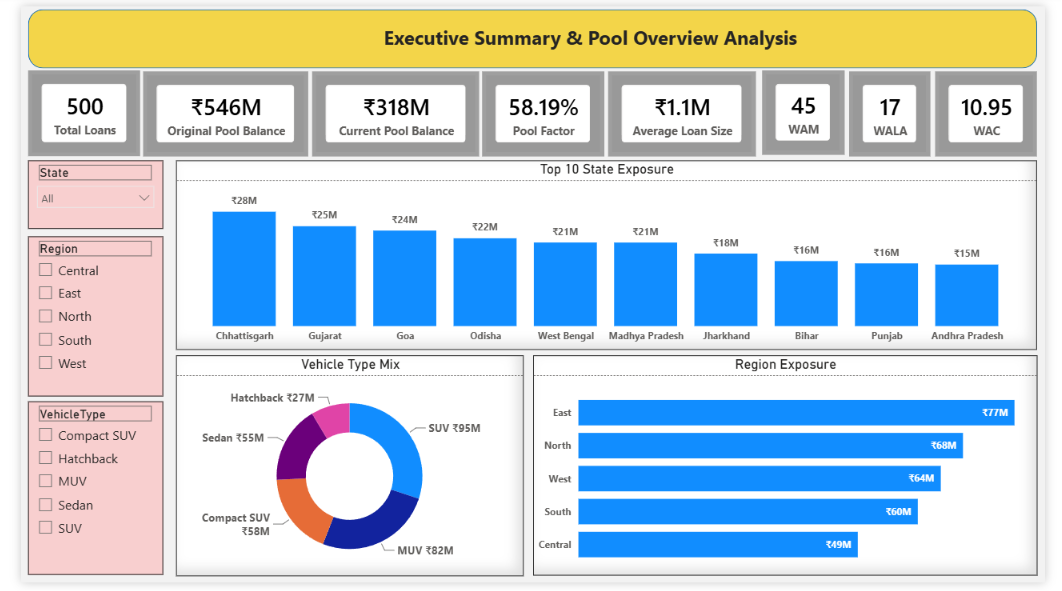

This screenshot's page, from the dashboard's own definition file:
{"tool":"powerbi","page":{"name":"Executive Summary & Pool Overview","canvas":[1280,720],"ordinal":0},"visuals":[{"type":"cardVisual","fields":{"Data":["auto_loan_securitisation_data.Total Loans"]},"box":[8.6,80,140,107.1],"z":0},{"type":"cardVisual","fields":{"Data":["auto_loan_securitisation_data.Current Pool Balance"]},"box":[363.2,80.7,209.1,106.4],"z":1000},{"type":"cardVisual","fields":{"Data":["auto_loan_securitisation_data.Original Pool Balance"]},"box":[152.9,80.7,206.7,106.4],"z":2000},{"type":"cardVisual","fields":{"Data":["auto_loan_securitisation_data.Pool Factor"]},"box":[576,80.7,152.9,106.4],"z":3000},{"type":"cardVisual","fields":{"Data":["auto_loan_securitisation_data.Average Loan Size"]},"box":[733.7,80.7,184.6,106.4],"z":4000},{"type":"cardVisual","fields":{"Data":["auto_loan_securitisation_data.WAC"]},"box":[1142.1,80.7,127.2,106.4],"z":5000},{"type":"cardVisual","fields":{"Data":["auto_loan_securitisation_data.WAM"]},"box":[925.7,80,102.9,105.7],"z":6000},{"type":"cardVisual","fields":{"Data":["auto_loan_securitisation_data.WALA"]},"box":[1034.5,80.7,101.5,106.4],"z":7000},{"type":"donutChart","title":"Vehicle Type Mix","fields":{"Category":["auto_loan_securitisation_data.VehicleType"],"Y":["auto_loan_securitisation_data.Current Pool Balance"]},"box":[194.3,435.7,434.3,275.7],"z":8000},{"type":"clusteredBarChart","title":"Region Exposure","fields":{"Category":["auto_loan_securitisation_data.Region"],"Y":["auto_loan_securitisation_data.Current Pool Balance"]},"box":[640,436.2,630,275],"z":9000},{"type":"clusteredColumnChart","title":"Top 10 State Exposure","fields":{"Category":["auto_loan_securitisation_data.State"],"Y":["auto_loan_securitisation_data.Current Pool Balance"]},"box":[194.3,192.9,1075.7,237.1],"z":10000},{"type":"slicer","fields":{"Values":["auto_loan_securitisation_data.Region"]},"box":[8.6,287.1,168.6,200],"z":11000},{"type":"slicer","fields":{"Values":["auto_loan_securitisation_data.State"]},"box":[8.6,192.9,168.6,85.7],"z":12000},{"type":"slicer","fields":{"Values":["auto_loan_securitisation_data.VehicleType"]},"box":[8.6,494.3,168.6,217.1],"z":13000},{"type":"shape","box":[8.8,3.8,1261.2,73.8],"z":14000},{"type":"textbox","box":[415.7,17.1,584.3,47.1],"z":15000}]}

Visuals, with their boxes in screenshot pixels (x1, y1, x2, y2), scaled from the page's 1280x720 canvas onto the 1062x591 screenshot:
cardVisual - auto_loan_securitisation_data.Total Loans: BBox(7, 66, 123, 154)
cardVisual - auto_loan_securitisation_data.Current Pool Balance: BBox(301, 66, 475, 154)
cardVisual - auto_loan_securitisation_data.Original Pool Balance: BBox(127, 66, 298, 154)
cardVisual - auto_loan_securitisation_data.Pool Factor: BBox(478, 66, 605, 154)
cardVisual - auto_loan_securitisation_data.Average Loan Size: BBox(609, 66, 762, 154)
cardVisual - auto_loan_securitisation_data.WAC: BBox(948, 66, 1053, 154)
cardVisual - auto_loan_securitisation_data.WAM: BBox(768, 66, 853, 152)
cardVisual - auto_loan_securitisation_data.WALA: BBox(858, 66, 943, 154)
"Vehicle Type Mix" donutChart: BBox(161, 358, 522, 584)
"Region Exposure" clusteredBarChart: BBox(531, 358, 1054, 584)
"Top 10 State Exposure" clusteredColumnChart: BBox(161, 158, 1054, 353)
slicer - auto_loan_securitisation_data.Region: BBox(7, 236, 147, 400)
slicer - auto_loan_securitisation_data.State: BBox(7, 158, 147, 229)
slicer - auto_loan_securitisation_data.VehicleType: BBox(7, 406, 147, 584)
shape: BBox(7, 3, 1054, 64)
textbox: BBox(345, 14, 830, 53)
